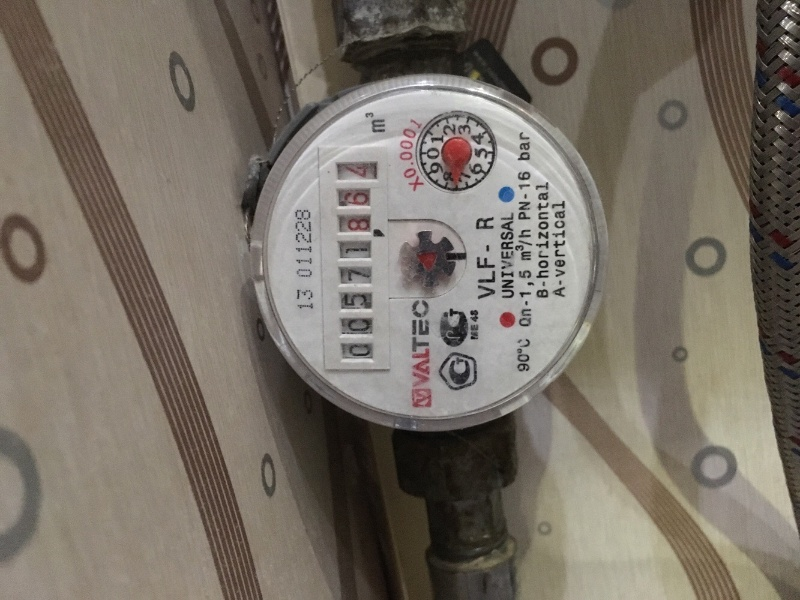dial: (322, 158, 391, 356)
